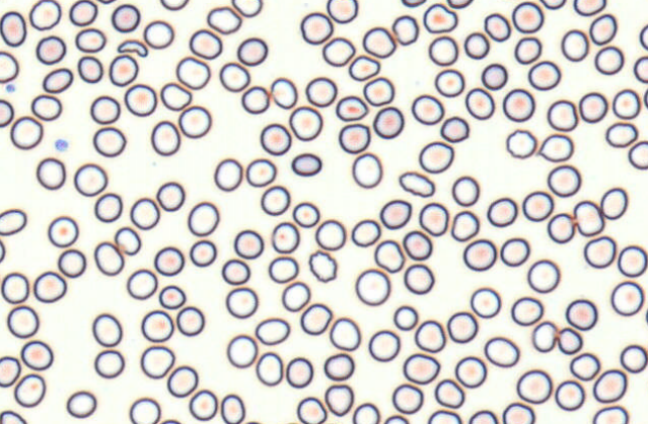PLT: (55, 137, 70, 152), (4, 82, 15, 93)
RBC: (355, 268, 390, 305), (516, 369, 552, 404), (592, 368, 627, 403), (610, 280, 644, 316), (288, 105, 322, 141), (418, 140, 454, 173), (402, 353, 440, 384), (9, 115, 43, 149), (73, 162, 107, 196), (140, 345, 175, 378), (527, 258, 560, 293), (175, 56, 210, 89), (462, 238, 496, 271), (547, 164, 581, 197), (502, 88, 535, 122), (187, 201, 219, 236), (351, 152, 382, 188), (573, 200, 604, 236), (33, 270, 66, 303), (300, 11, 333, 44), (178, 105, 211, 138), (583, 235, 616, 268), (14, 373, 46, 407), (362, 26, 396, 58), (329, 316, 360, 351), (93, 241, 124, 276), (484, 336, 519, 367), (7, 305, 39, 338), (454, 355, 486, 388), (225, 286, 258, 318), (300, 302, 332, 335), (141, 309, 173, 342), (124, 83, 156, 116), (372, 106, 404, 139), (226, 334, 257, 368), (373, 239, 404, 273), (188, 28, 222, 59), (92, 126, 126, 157), (422, 3, 457, 33), (150, 120, 180, 155), (206, 5, 242, 34), (166, 365, 198, 397), (446, 311, 478, 343), (565, 298, 597, 330), (368, 329, 400, 361), (259, 123, 291, 155), (511, 1, 543, 33), (546, 99, 578, 131), (20, 339, 53, 370), (414, 319, 445, 352), (411, 94, 444, 125), (92, 313, 122, 347), (213, 157, 243, 191), (418, 202, 448, 236), (527, 60, 561, 90), (538, 133, 573, 162), (254, 317, 290, 345), (398, 170, 435, 197), (554, 379, 585, 411), (391, 383, 423, 414), (470, 286, 501, 318), (47, 215, 78, 247), (314, 219, 346, 250), (305, 76, 337, 107), (510, 296, 543, 326), (36, 157, 66, 190), (617, 244, 647, 277), (322, 36, 355, 66), (255, 351, 283, 386), (0, 10, 26, 47), (403, 263, 434, 294), (126, 268, 157, 299), (219, 61, 250, 92), (522, 190, 553, 221), (129, 197, 159, 229), (108, 54, 138, 86), (505, 128, 537, 158), (29, 0, 61, 30), (338, 123, 370, 153), (379, 199, 411, 229), (236, 36, 268, 66), (578, 91, 608, 123), (560, 28, 589, 61), (245, 157, 276, 187), (402, 229, 432, 260), (363, 76, 394, 106), (153, 246, 184, 276), (143, 19, 174, 49), (486, 197, 517, 227), (428, 35, 458, 66), (308, 250, 337, 282), (324, 384, 353, 416), (160, 81, 192, 110), (465, 87, 494, 119), (434, 378, 464, 408), (233, 229, 263, 259), (260, 185, 290, 215), (594, 45, 624, 75), (569, 352, 600, 381), (323, 352, 354, 381), (188, 389, 217, 420), (450, 210, 479, 241), (35, 35, 66, 64), (1, 271, 29, 303), (285, 356, 313, 388), (30, 93, 62, 121), (271, 221, 299, 253), (589, 13, 617, 45), (600, 187, 628, 219), (270, 76, 297, 109), (281, 281, 310, 311), (94, 349, 124, 378), (57, 248, 86, 278), (156, 181, 185, 211), (351, 218, 381, 247), (434, 68, 464, 97), (500, 237, 530, 266), (90, 95, 120, 124), (176, 305, 204, 336), (547, 212, 575, 243), (451, 175, 479, 206), (612, 88, 640, 119), (531, 320, 558, 352), (348, 54, 380, 81), (335, 95, 368, 121), (605, 121, 638, 147), (111, 3, 140, 32), (268, 255, 298, 283), (66, 390, 96, 418), (94, 192, 122, 222), (391, 14, 418, 45), (619, 344, 647, 373), (241, 85, 269, 114), (296, 396, 326, 423), (129, 397, 160, 423), (42, 67, 73, 93), (75, 27, 106, 53), (114, 226, 141, 255), (221, 258, 250, 285), (483, 12, 510, 41), (440, 115, 469, 142), (189, 239, 216, 267), (514, 36, 541, 64), (220, 393, 245, 423), (0, 208, 27, 235), (292, 201, 320, 227), (77, 55, 103, 83), (463, 31, 489, 59), (69, 0, 97, 26), (481, 62, 507, 90), (291, 152, 321, 176), (326, 0, 357, 23), (557, 326, 582, 354), (158, 284, 185, 309), (0, 355, 21, 387), (502, 402, 534, 423), (592, 405, 629, 423), (393, 304, 418, 330), (0, 50, 19, 82), (352, 402, 380, 423), (628, 140, 647, 169), (573, 0, 606, 16), (231, 0, 262, 17), (427, 409, 461, 423), (468, 409, 498, 423), (0, 98, 14, 127), (633, 55, 647, 83), (0, 410, 26, 423), (159, 0, 189, 10), (539, 0, 566, 9), (383, 414, 409, 423), (446, 0, 472, 9), (639, 24, 647, 50), (401, 0, 426, 7), (0, 239, 5, 262), (159, 418, 181, 423), (643, 87, 648, 108), (97, 0, 116, 4), (244, 420, 262, 424), (282, 421, 302, 424), (645, 307, 648, 324)
Schistocyte: (116, 39, 148, 57)
